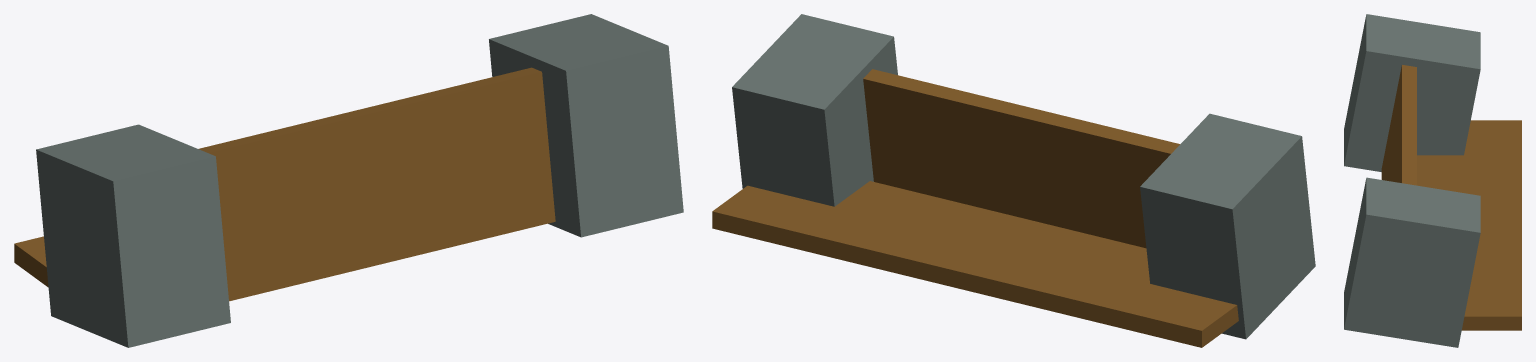
Rendered from SM_Banco_v4_LOD1.fbx.
3 renders of one model, left to right at view 1: azimuth 30°, elevation 25°; view 2: azimuth 150°, elevation 25°; view 3: azimuth 270°, elevation 25°, orthographic. The views are drawn at different scales.
Parts seen in each view (by area): view 1: SM_urbano_v14_LOD1; view 2: SM_urbano_v14_LOD1; view 3: SM_urbano_v14_LOD1.
Part boxes in pixels (box(x1,y1,x2,y2)): SM_urbano_v14_LOD1: box(14, 14, 683, 347); SM_urbano_v14_LOD1: box(712, 14, 1315, 347); SM_urbano_v14_LOD1: box(1344, 14, 1521, 347).
Size of the model in its own units: 1.84 by 0.5705 by 0.69.
